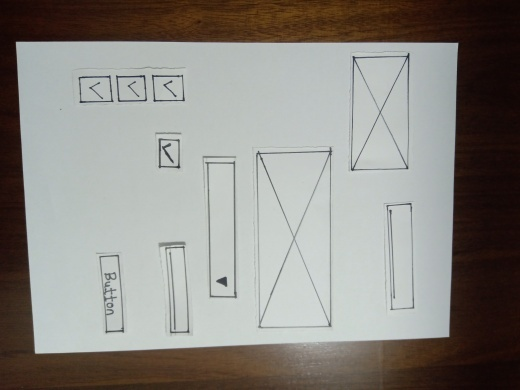button: (100, 257, 122, 332)
checkbox: (80, 78, 112, 103), (155, 76, 184, 101), (116, 78, 145, 101), (159, 141, 180, 166)
dropdown: (203, 159, 239, 298)
img: (254, 153, 330, 326), (351, 55, 409, 169)
text: (385, 206, 416, 308), (163, 244, 190, 333)
